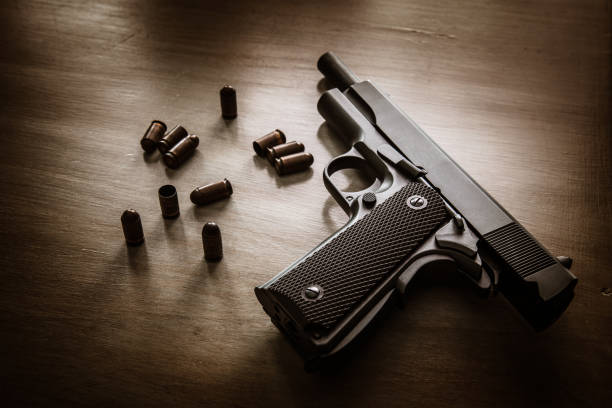gun: (253, 47, 578, 366)
